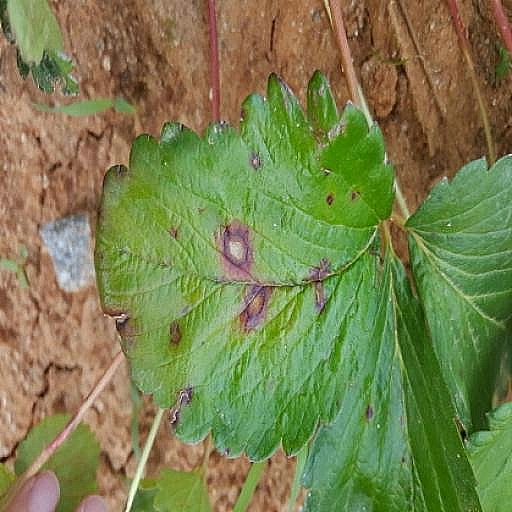Leaf Spot: (113, 50, 417, 445), (31, 0, 215, 275)
